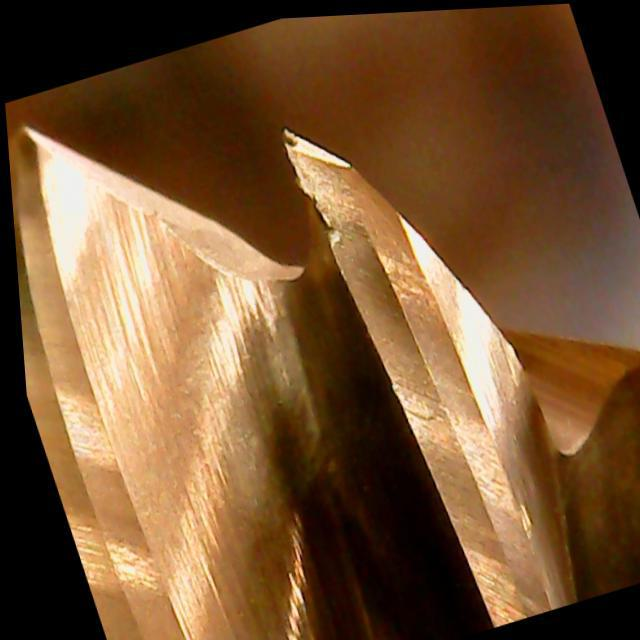Tool-wear-class-1: (267, 93, 478, 425)
